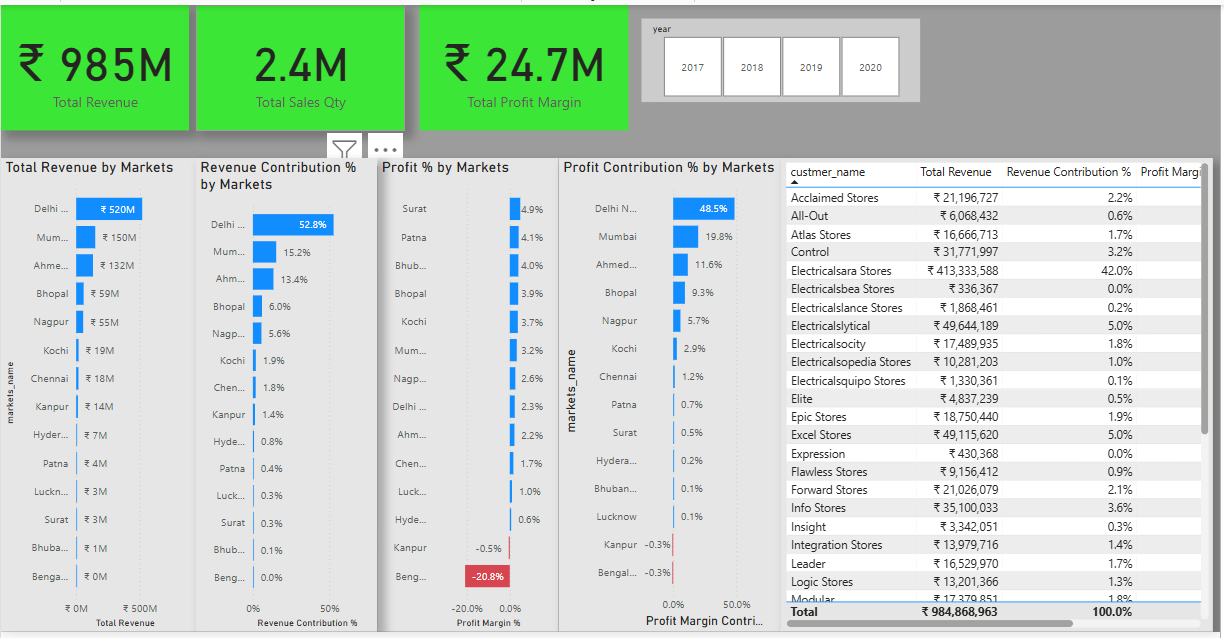

The dashboard page shown, as its layout file describes it:
{"tool":"powerbi","page":{"name":"Key Insights","canvas":[1400,720],"ordinal":0},"visuals":[{"type":"card","fields":{"Values":["PrimaryMeasures.Total Revenue"]},"box":[0,0,208,160],"z":0},{"type":"card","fields":{"Values":["PrimaryMeasures.Total Sales Qty"]},"box":[208,0,176,160],"z":1000},{"type":"clusteredBarChart","title":"Total Revenue by Markets","fields":{"Category":["sales markets.markets_name"],"Y":["PrimaryMeasures.Total Revenue"]},"box":[0,176,224,544],"z":2000},{"type":"card","fields":{"Values":["PrimaryMeasures.Total Profit Margin"]},"box":[384,0,224,160],"z":3000},{"type":"clusteredBarChart","title":"Profit % by Markets","fields":{"Category":["sales markets.markets_name"],"Y":["PrimaryMeasures.Profit Margin %"]},"box":[432,176,208,544],"z":4000},{"type":"slicer","fields":{"Values":["sales date.year"]},"box":[608,32,304,80],"z":5000},{"type":"clusteredBarChart","title":"Profit Contribution % by Markets","fields":{"Category":["sales markets.markets_name"],"Y":["PrimaryMeasures.Total Contribution %"]},"box":[640,176,192,544],"z":6000},{"type":"tableEx","fields":{"Values":["sales customers.custmer_name","PrimaryMeasures.Total Revenue","PrimaryMeasures.Revenue Contribution %","PrimaryMeasures.Profit Margin Contribution %","PrimaryMeasures.Profit Margin %"]},"box":[824,176,576,544],"z":7000},{"type":"clusteredBarChart","title":"Revenue Contribution % by Markets","fields":{"Category":["sales markets.markets_name"],"Y":["PrimaryMeasures.Revenue Contribution %"]},"box":[224,176,208,544],"z":8000}]}

Visuals, with their boxes in screenshot pixels (x1, y1, x2, y2), scaled from the page's 1400x720 canvas onto the 1224x638 screenshot:
card - PrimaryMeasures.Total Revenue: 0 0 182 142
card - PrimaryMeasures.Total Sales Qty: 182 0 336 142
"Total Revenue by Markets" clusteredBarChart: 0 156 196 637
card - PrimaryMeasures.Total Profit Margin: 336 0 532 142
"Profit % by Markets" clusteredBarChart: 378 156 560 637
slicer - sales date.year: 532 28 797 99
"Profit Contribution % by Markets" clusteredBarChart: 560 156 727 637
tableEx - sales customers.custmer_name x PrimaryMeasures.Total Revenue: 720 156 1223 637
"Revenue Contribution % by Markets" clusteredBarChart: 196 156 378 637
